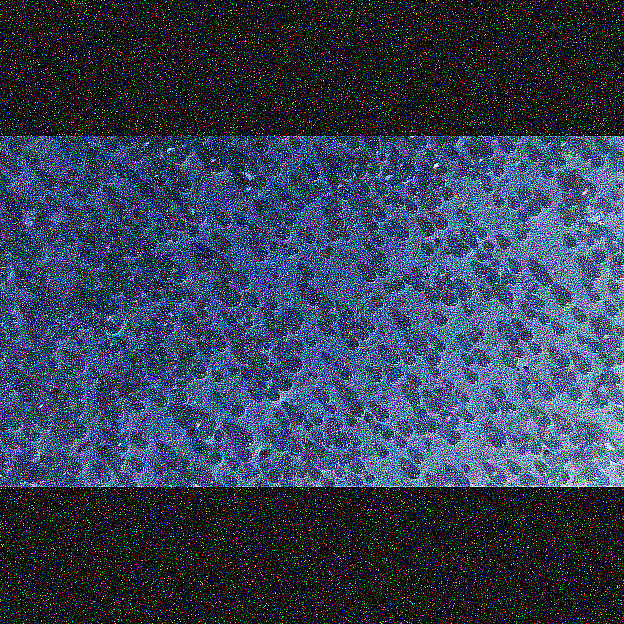GrassBeadSeg: (223, 290, 241, 307), (411, 337, 428, 355), (286, 357, 303, 373), (106, 317, 122, 334), (399, 165, 415, 181), (237, 433, 253, 448), (426, 196, 442, 211), (199, 424, 214, 439), (267, 212, 283, 226), (191, 365, 207, 379), (176, 179, 192, 193), (100, 169, 116, 183), (273, 326, 288, 340), (42, 340, 57, 354), (339, 185, 353, 200), (412, 136, 426, 151), (175, 365, 189, 379), (587, 267, 601, 281), (492, 434, 506, 448), (127, 243, 141, 257), (120, 383, 134, 397), (443, 293, 458, 306), (454, 245, 469, 258), (335, 436, 350, 449), (235, 339, 249, 352), (427, 353, 441, 366), (157, 200, 171, 213), (289, 443, 303, 456), (459, 287, 472, 301), (253, 177, 267, 190), (609, 338, 622, 352), (586, 467, 599, 481), (292, 412, 306, 425), (290, 201, 305, 213), (192, 327, 205, 340), (559, 293, 572, 306), (110, 407, 123, 420), (578, 362, 591, 375), (174, 270, 187, 283), (73, 426, 86, 439), (255, 141, 268, 154), (431, 400, 444, 413), (445, 397, 458, 410), (42, 406, 55, 419), (173, 290, 187, 302), (255, 355, 269, 367), (127, 287, 141, 299), (527, 204, 541, 216), (219, 240, 232, 252), (209, 453, 222, 465), (398, 319, 411, 331), (259, 370, 272, 382), (56, 376, 69, 388), (352, 462, 365, 474), (11, 352, 24, 364), (70, 463, 83, 475), (480, 161, 493, 173), (112, 458, 124, 471), (179, 416, 192, 428), (11, 475, 24, 487), (231, 164, 244, 176), (277, 229, 291, 240), (110, 284, 124, 295), (386, 353, 400, 364), (238, 278, 250, 290), (342, 310, 354, 322), (280, 379, 292, 391), (488, 273, 500, 285), (308, 294, 320, 306), (436, 218, 448, 230), (564, 214, 576, 226), (408, 467, 420, 479), (570, 389, 582, 401), (269, 470, 281, 482), (503, 142, 515, 154), (343, 167, 355, 179), (359, 198, 371, 210), (329, 164, 341, 176), (433, 178, 445, 190), (367, 137, 379, 149), (2, 301, 14, 313), (219, 136, 231, 148), (232, 405, 245, 416), (155, 396, 168, 407), (321, 301, 334, 312), (90, 257, 103, 268), (409, 394, 420, 407), (72, 388, 85, 399), (72, 155, 85, 166), (332, 218, 344, 229), (215, 340, 227, 351), (188, 226, 200, 237), (347, 339, 358, 351), (479, 356, 491, 367), (256, 249, 267, 261), (37, 273, 48, 285), (543, 390, 555, 401), (285, 468, 296, 480), (377, 410, 389, 421), (268, 390, 280, 401), (346, 393, 358, 404), (58, 329, 70, 340), (352, 405, 363, 417), (14, 381, 25, 393), (449, 433, 460, 445), (423, 224, 434, 236), (192, 213, 204, 224), (540, 416, 551, 428), (562, 181, 574, 192), (108, 142, 120, 153), (203, 473, 214, 485), (46, 180, 58, 191), (495, 473, 506, 485), (25, 416, 37, 427), (212, 162, 224, 173), (57, 308, 69, 319), (447, 418, 459, 429), (289, 323, 301, 334), (531, 443, 542, 455), (160, 269, 172, 280), (529, 151, 541, 162), (436, 165, 448, 176), (597, 396, 608, 408), (572, 434, 583, 446), (551, 440, 562, 452), (587, 434, 598, 446), (539, 276, 552, 286), (177, 392, 188, 403), (220, 216, 231, 227), (241, 451, 252, 462), (375, 211, 386, 222), (203, 347, 214, 358), (357, 329, 368, 340), (285, 215, 296, 226), (558, 358, 569, 369), (358, 185, 369, 196), (276, 441, 287, 452), (416, 424, 427, 435), (269, 165, 280, 176), (405, 354, 416, 365), (348, 140, 359, 151), (11, 418, 22, 429), (130, 174, 141, 185), (554, 157, 565, 168), (593, 159, 604, 170), (164, 474, 175, 485), (610, 377, 621, 388), (239, 354, 251, 364), (74, 216, 86, 226), (429, 292, 439, 304), (78, 310, 90, 320), (29, 159, 41, 169), (567, 372, 577, 384), (468, 373, 478, 384), (151, 292, 162, 302), (341, 370, 352, 380), (376, 254, 387, 264), (411, 378, 422, 388), (407, 203, 418, 213), (365, 272, 376, 282), (254, 392, 265, 402), (500, 239, 511, 249), (134, 402, 145, 412), (521, 332, 532, 342), (94, 215, 105, 225), (443, 190, 453, 201), (398, 231, 409, 241), (325, 314, 336, 324), (87, 278, 98, 288), (384, 430, 394, 441), (156, 161, 167, 171), (494, 166, 504, 177), (109, 303, 119, 314), (369, 165, 379, 176), (10, 330, 21, 340), (540, 198, 551, 208), (27, 448, 37, 459), (106, 259, 117, 269), (90, 181, 101, 191), (109, 191, 120, 201), (0, 180, 11, 190), (0, 244, 11, 254), (96, 158, 107, 168), (449, 150, 459, 161), (462, 215, 473, 225), (602, 145, 612, 156), (542, 136, 553, 146), (176, 380, 187, 390), (37, 325, 48, 335), (189, 428, 199, 439), (252, 344, 263, 354), (390, 371, 401, 381), (151, 149, 161, 160), (143, 186, 154, 196), (429, 421, 438, 433), (465, 357, 475, 367), (250, 298, 260, 308), (484, 291, 494, 301), (135, 462, 145, 472), (238, 217, 248, 227), (436, 342, 446, 352), (156, 176, 166, 186), (424, 246, 434, 256), (437, 316, 447, 326), (118, 443, 128, 453), (512, 264, 522, 274), (319, 394, 329, 404), (145, 242, 155, 252), (378, 267, 388, 277), (517, 231, 527, 241), (295, 344, 305, 354), (416, 409, 426, 419), (414, 282, 424, 292), (10, 439, 20, 449), (519, 212, 529, 222), (165, 325, 175, 335), (108, 394, 118, 404), (27, 259, 37, 269), (403, 426, 413, 436), (119, 262, 129, 272), (76, 362, 86, 372), (385, 284, 395, 294), (166, 379, 176, 389), (590, 343, 600, 353), (312, 470, 322, 480), (562, 424, 572, 434), (85, 236, 95, 246), (13, 166, 23, 176), (184, 146, 194, 156), (409, 186, 419, 196), (544, 170, 554, 180), (582, 151, 592, 161), (543, 157, 553, 167), (609, 245, 619, 255), (554, 371, 564, 381), (164, 355, 174, 365), (34, 399, 44, 409), (222, 274, 232, 284), (124, 136, 134, 146), (521, 194, 531, 204), (98, 246, 109, 255), (223, 400, 234, 409), (369, 223, 378, 233), (139, 440, 149, 449), (566, 239, 576, 248), (415, 454, 424, 464), (181, 459, 190, 469), (485, 242, 494, 252), (142, 218, 151, 228), (512, 465, 521, 475), (540, 316, 550, 325), (532, 345, 541, 355), (32, 432, 41, 442), (605, 359, 614, 369), (578, 314, 587, 324), (215, 432, 224, 442), (297, 469, 307, 478), (518, 445, 528, 454), (373, 425, 383, 434), (48, 234, 58, 243), (116, 203, 126, 212), (59, 401, 69, 410), (597, 254, 606, 264), (42, 420, 52, 429), (357, 167, 366, 177), (539, 466, 548, 476), (303, 453, 313, 462), (14, 148, 24, 157), (7, 316, 17, 325), (57, 467, 67, 476), (123, 271, 132, 281), (4, 228, 14, 237), (1, 268, 11, 277), (21, 136, 30, 146), (261, 235, 270, 245), (282, 193, 291, 203), (301, 184, 310, 194), (305, 196, 314, 206), (389, 177, 399, 186), (420, 179, 430, 188), (585, 283, 595, 292), (395, 281, 404, 291), (329, 460, 339, 469), (139, 392, 149, 401), (139, 380, 149, 389), (152, 371, 162, 380), (149, 359, 159, 368), (135, 363, 145, 372), (188, 348, 197, 358), (231, 461, 240, 470), (214, 373, 223, 382), (375, 237, 384, 246), (380, 449, 389, 458), (228, 317, 237, 326), (305, 271, 314, 280), (348, 418, 357, 427), (460, 395, 469, 404), (527, 311, 536, 320), (591, 294, 600, 303), (311, 171, 320, 180), (556, 327, 565, 336), (305, 235, 314, 244), (366, 474, 375, 483), (352, 439, 361, 448), (154, 336, 163, 345), (394, 198, 403, 207), (515, 350, 524, 359), (566, 199, 575, 208), (134, 228, 143, 237), (72, 324, 81, 333), (80, 194, 89, 203), (143, 284, 152, 293), (148, 269, 157, 278), (117, 250, 126, 259), (150, 258, 159, 267), (43, 221, 52, 230), (125, 217, 134, 226), (134, 153, 143, 162), (379, 188, 388, 197), (471, 171, 480, 180), (484, 148, 493, 157), (614, 258, 623, 267), (614, 270, 623, 279), (609, 308, 618, 317), (446, 383, 455, 392), (536, 301, 545, 310), (477, 268, 486, 277), (448, 282, 457, 291), (285, 346, 294, 355), (39, 367, 48, 376), (33, 384, 42, 393), (170, 462, 179, 471), (120, 430, 129, 439), (293, 141, 302, 150), (83, 137, 92, 146), (330, 233, 340, 241), (102, 474, 112, 482), (510, 338, 518, 348), (53, 204, 63, 212), (601, 477, 609, 487), (119, 171, 129, 179), (2, 423, 10, 433), (27, 311, 37, 319), (189, 293, 197, 302), (282, 420, 290, 429), (245, 320, 254, 328), (466, 308, 474, 317), (523, 392, 531, 401), (365, 414, 373, 423), (231, 366, 239, 375), (244, 473, 253, 481), (342, 231, 350, 240), (337, 469, 345, 478), (479, 253, 487, 262), (466, 414, 474, 423), (373, 374, 382, 382), (498, 392, 506, 401), (479, 231, 487, 240), (36, 252, 45, 260), (512, 201, 520, 210), (464, 344, 473, 352), (140, 299, 149, 307), (50, 360, 58, 369), (522, 380, 530, 389), (594, 231, 603, 239), (19, 281, 28, 289), (485, 185, 493, 194), (612, 193, 620, 202), (614, 207, 622, 216), (578, 233, 586, 242), (579, 337, 587, 346), (505, 404, 514, 412), (438, 280, 446, 289), (405, 276, 413, 285), (275, 367, 283, 376), (121, 340, 129, 349), (6, 388, 14, 397), (339, 136, 348, 144), (398, 440, 406, 448), (490, 406, 498, 414), (287, 249, 295, 257), (155, 282, 163, 290), (266, 313, 274, 321), (496, 199, 504, 207), (586, 239, 594, 247), (334, 205, 342, 213), (482, 176, 490, 184), (124, 373, 132, 381), (112, 345, 120, 353), (471, 242, 479, 250), (368, 325, 376, 333), (344, 325, 352, 333), (427, 153, 435, 161), (611, 287, 619, 295), (550, 459, 558, 467), (463, 465, 471, 473), (319, 449, 327, 457), (43, 394, 51, 402), (284, 151, 292, 159), (305, 423, 314, 430), (315, 417, 322, 426), (603, 460, 610, 469), (517, 321, 524, 330), (433, 370, 440, 378), (325, 356, 332, 364), (389, 229, 396, 237), (309, 340, 316, 348), (340, 458, 347, 466), (559, 385, 566, 393), (47, 210, 54, 218), (366, 213, 373, 221), (609, 235, 616, 243), (563, 474, 570, 482), (590, 452, 597, 460), (306, 443, 314, 450), (284, 431, 292, 438), (354, 452, 362, 459), (282, 402, 290, 409), (329, 407, 337, 414), (338, 385, 346, 392), (201, 312, 208, 319), (325, 441, 332, 448), (271, 244, 278, 251), (253, 469, 260, 476), (264, 343, 271, 350), (65, 182, 72, 189), (200, 303, 207, 310), (190, 317, 197, 324), (147, 328, 154, 335), (379, 155, 386, 162), (417, 273, 424, 280), (335, 423, 342, 430), (317, 437, 324, 444), (286, 457, 293, 464), (278, 412, 285, 419), (238, 329, 245, 336), (270, 303, 277, 310), (187, 376, 194, 383), (368, 244, 374, 252), (472, 338, 479, 344), (430, 337, 437, 343), (470, 222, 477, 228), (377, 302, 383, 308), (426, 440, 432, 446), (299, 233, 305, 239), (479, 332, 485, 338), (79, 340, 85, 346), (73, 334, 79, 340), (47, 381, 53, 387), (273, 273, 279, 279), (131, 302, 137, 308), (139, 357, 145, 363), (106, 351, 111, 357), (113, 354, 119, 359), (47, 387, 52, 393), (69, 440, 75, 445), (101, 378, 107, 383), (95, 313, 101, 318), (447, 274, 452, 279), (511, 281, 516, 286), (248, 315, 253, 320), (324, 189, 329, 194), (500, 159, 505, 164), (464, 166, 469, 171), (427, 448, 432, 453), (217, 446, 222, 451), (441, 269, 445, 274), (488, 255, 493, 259), (268, 286, 273, 290), (156, 320, 160, 325), (326, 254, 330, 259), (386, 200, 391, 204), (462, 172, 466, 177), (489, 422, 493, 427), (173, 238, 178, 242), (107, 240, 111, 245), (526, 229, 531, 233), (282, 159, 287, 163), (314, 375, 318, 379), (379, 369, 383, 373)
